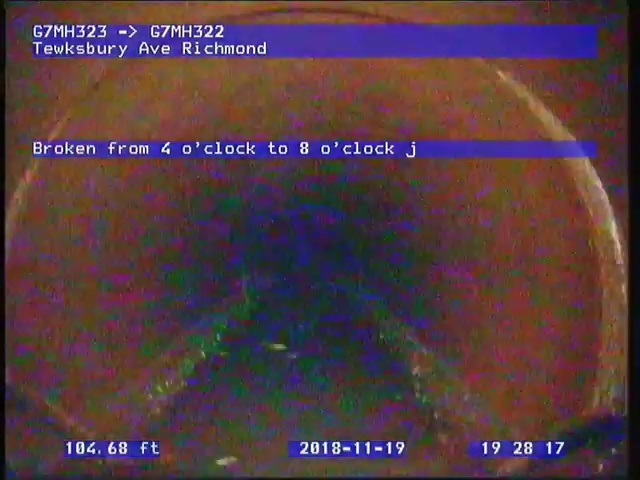crack: (4, 381, 166, 475), (487, 413, 628, 476)
